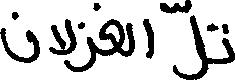X: (174, 0, 207, 79), (0, 7, 39, 67), (50, 14, 75, 76), (77, 0, 94, 76), (101, 14, 123, 60), (223, 19, 234, 68), (147, 14, 153, 63), (127, 18, 133, 61)
